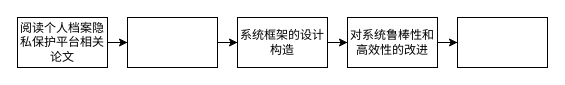
Image size: 565x85. Some labels were removed from this diagram. The centre of each missing label's shape, as x and y in pixels:
学习golang，联盟链等相关知识: (x=172, y=42)
得到基于区块链的个人档案隐私保护系统: (x=502, y=42)
